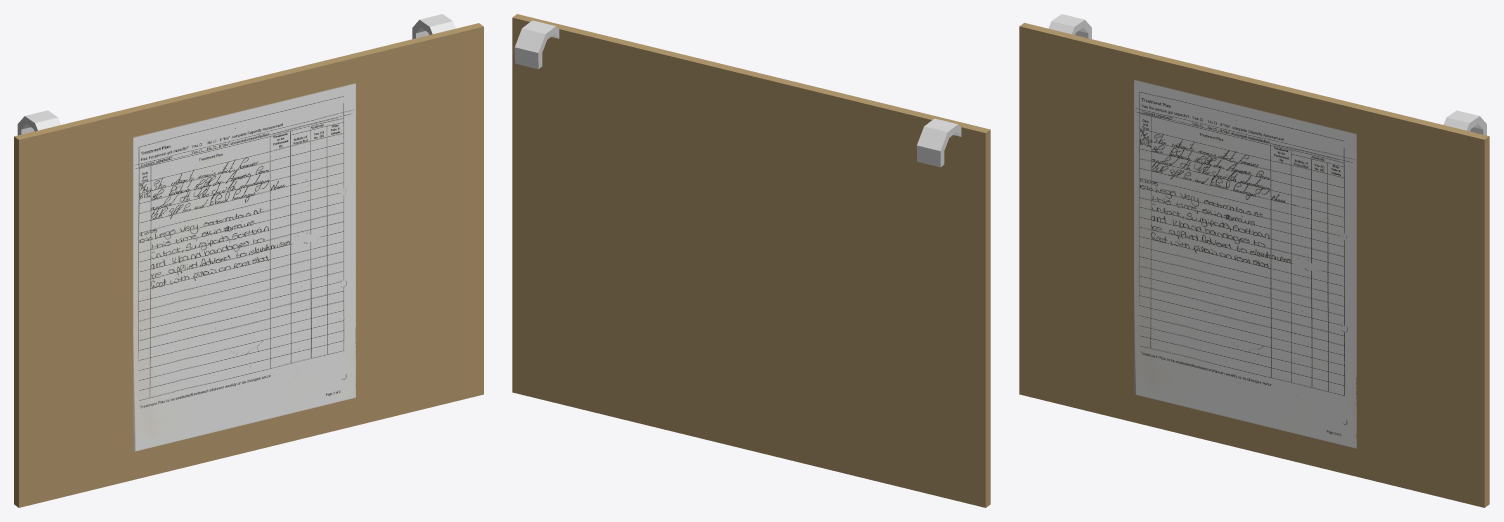
File: PatientRecord.fbx
3 views of the same model, side by side, from view 1: azimuth 30°, elevation 25°; view 2: azimuth 150°, elevation 25°; view 3: azimuth 330°, elevation 25° (orthographic).
Visible parts, largest first — view 1: PatientData, hooks; view 2: PatientData, hooks; view 3: PatientData, hooks.
Part boxes in pixels (x1=…): PatientData: x1=14, y1=23, x2=483, y2=507; hooks: x1=17, y1=14, x2=455, y2=135; PatientData: x1=512, y1=14, x2=990, y2=507; hooks: x1=514, y1=20, x2=961, y2=167; PatientData: x1=1019, y1=23, x2=1489, y2=507; hooks: x1=1048, y1=14, x2=1486, y2=135.
Bounding box in the file's own units: 200 × 153 × 18.9.
